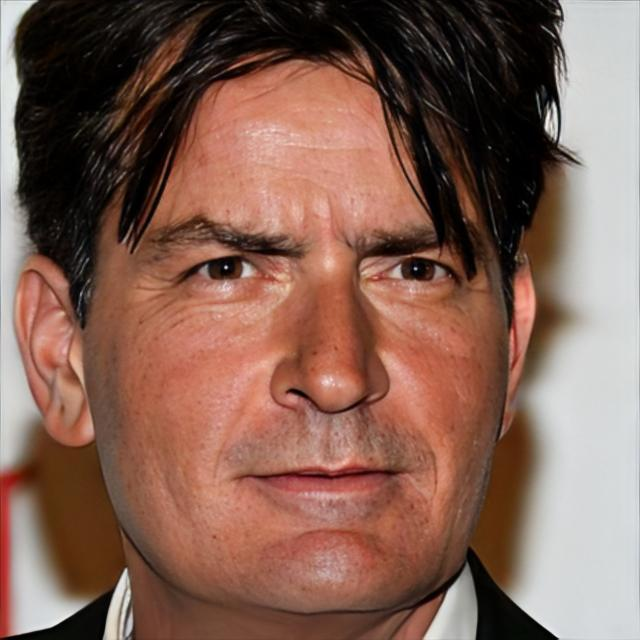content: (92, 26, 513, 616)
